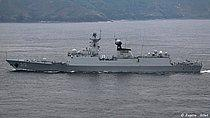MIL_Ship: (5, 29, 203, 74)
